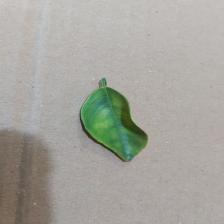greening: (80, 97, 129, 140)
